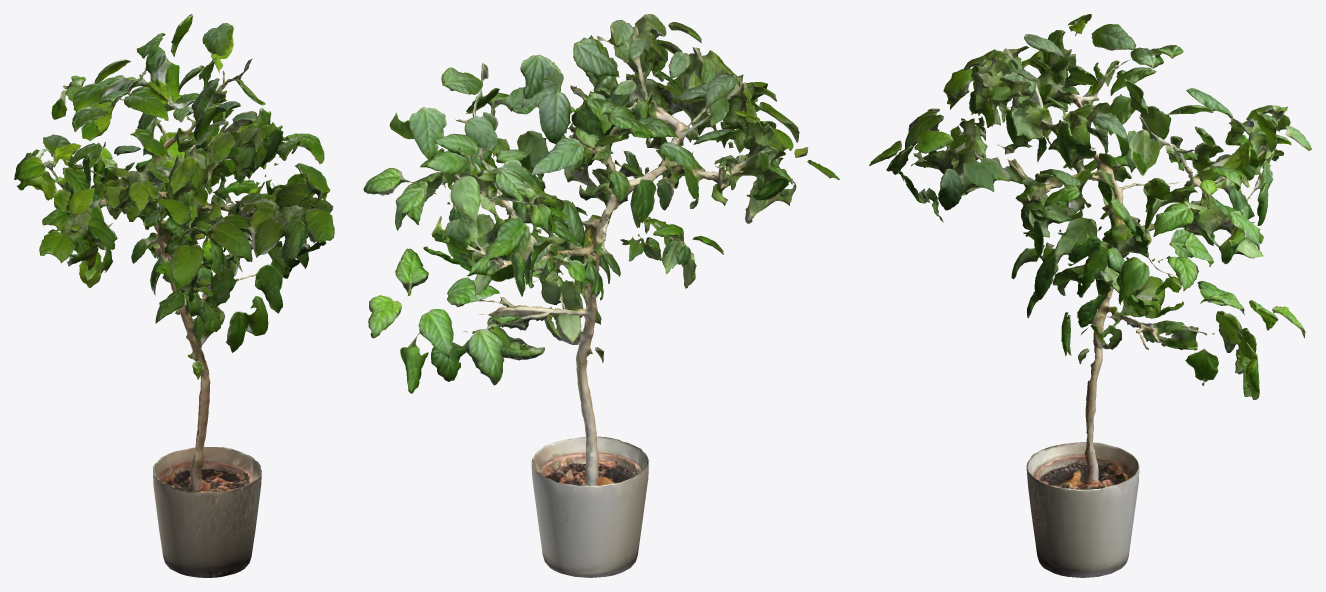
The model's file is plant-transformed.glb.
3 views of the same model, side by side, from view 1: azimuth 30°, elevation 25°; view 2: azimuth 150°, elevation 25°; view 3: azimuth 270°, elevation 25° (orthographic). The views are drawn at different scales.
Visible parts, largest first — view 1: Object_2; view 2: Object_2; view 3: Object_2.
Boxes of the visible parts, x1,y1,x2,y2 form: Object_2: (14,14,334,577); Object_2: (363,14,839,577); Object_2: (869,14,1311,577).
Bounding box in the file's own units: 10.37 × 13.16 × 10.63.
1 material, 1 textured.
